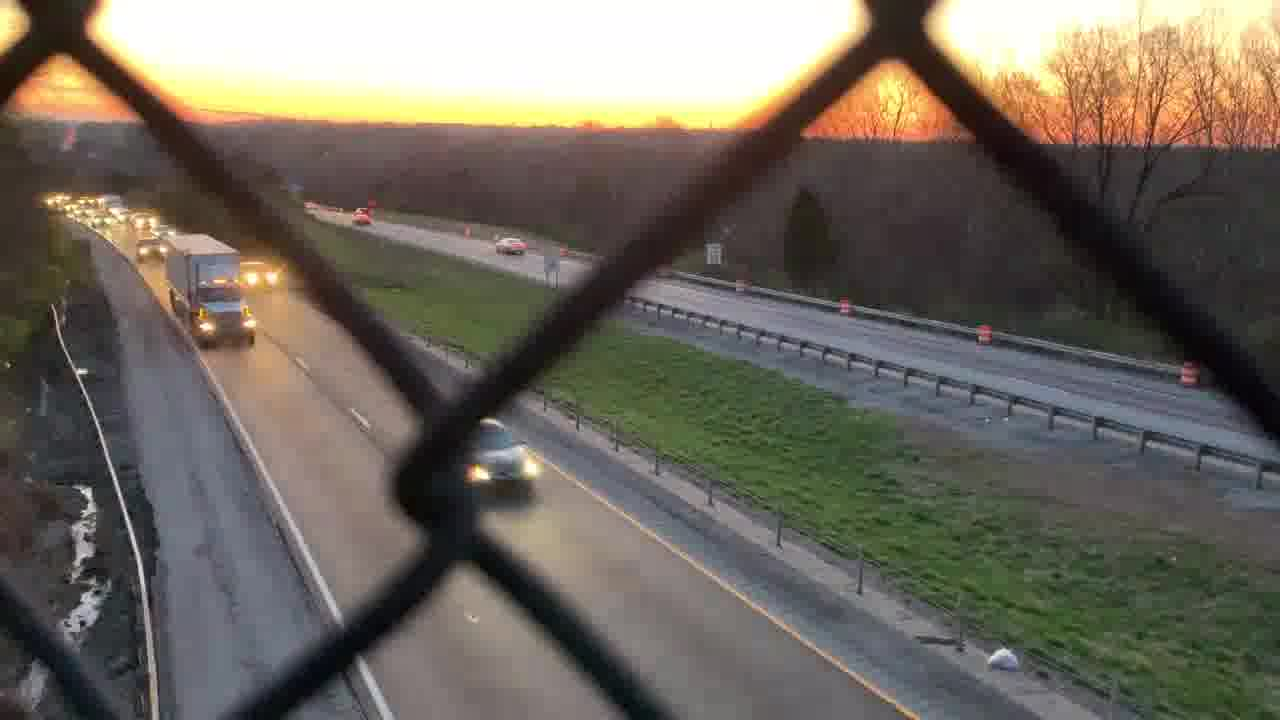heavyTruck: (163, 232, 257, 359)
smallCar: (493, 232, 523, 255)
